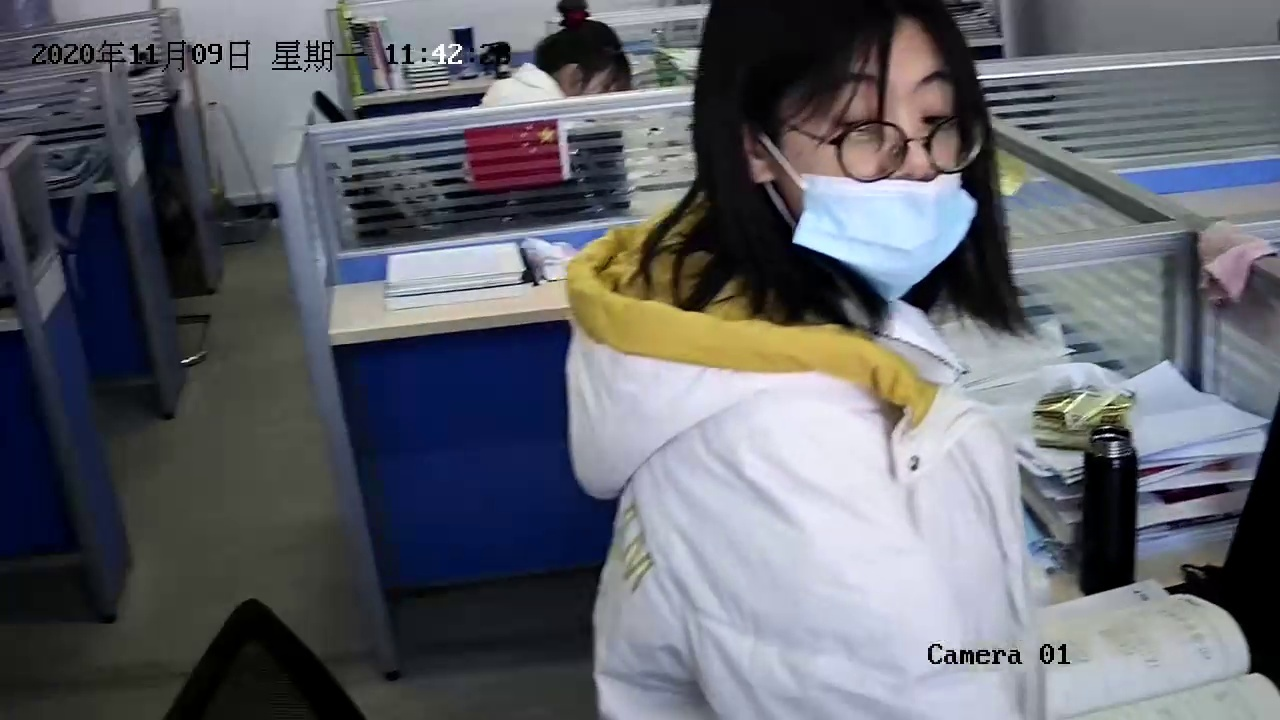mask: (719, 2, 971, 297)
